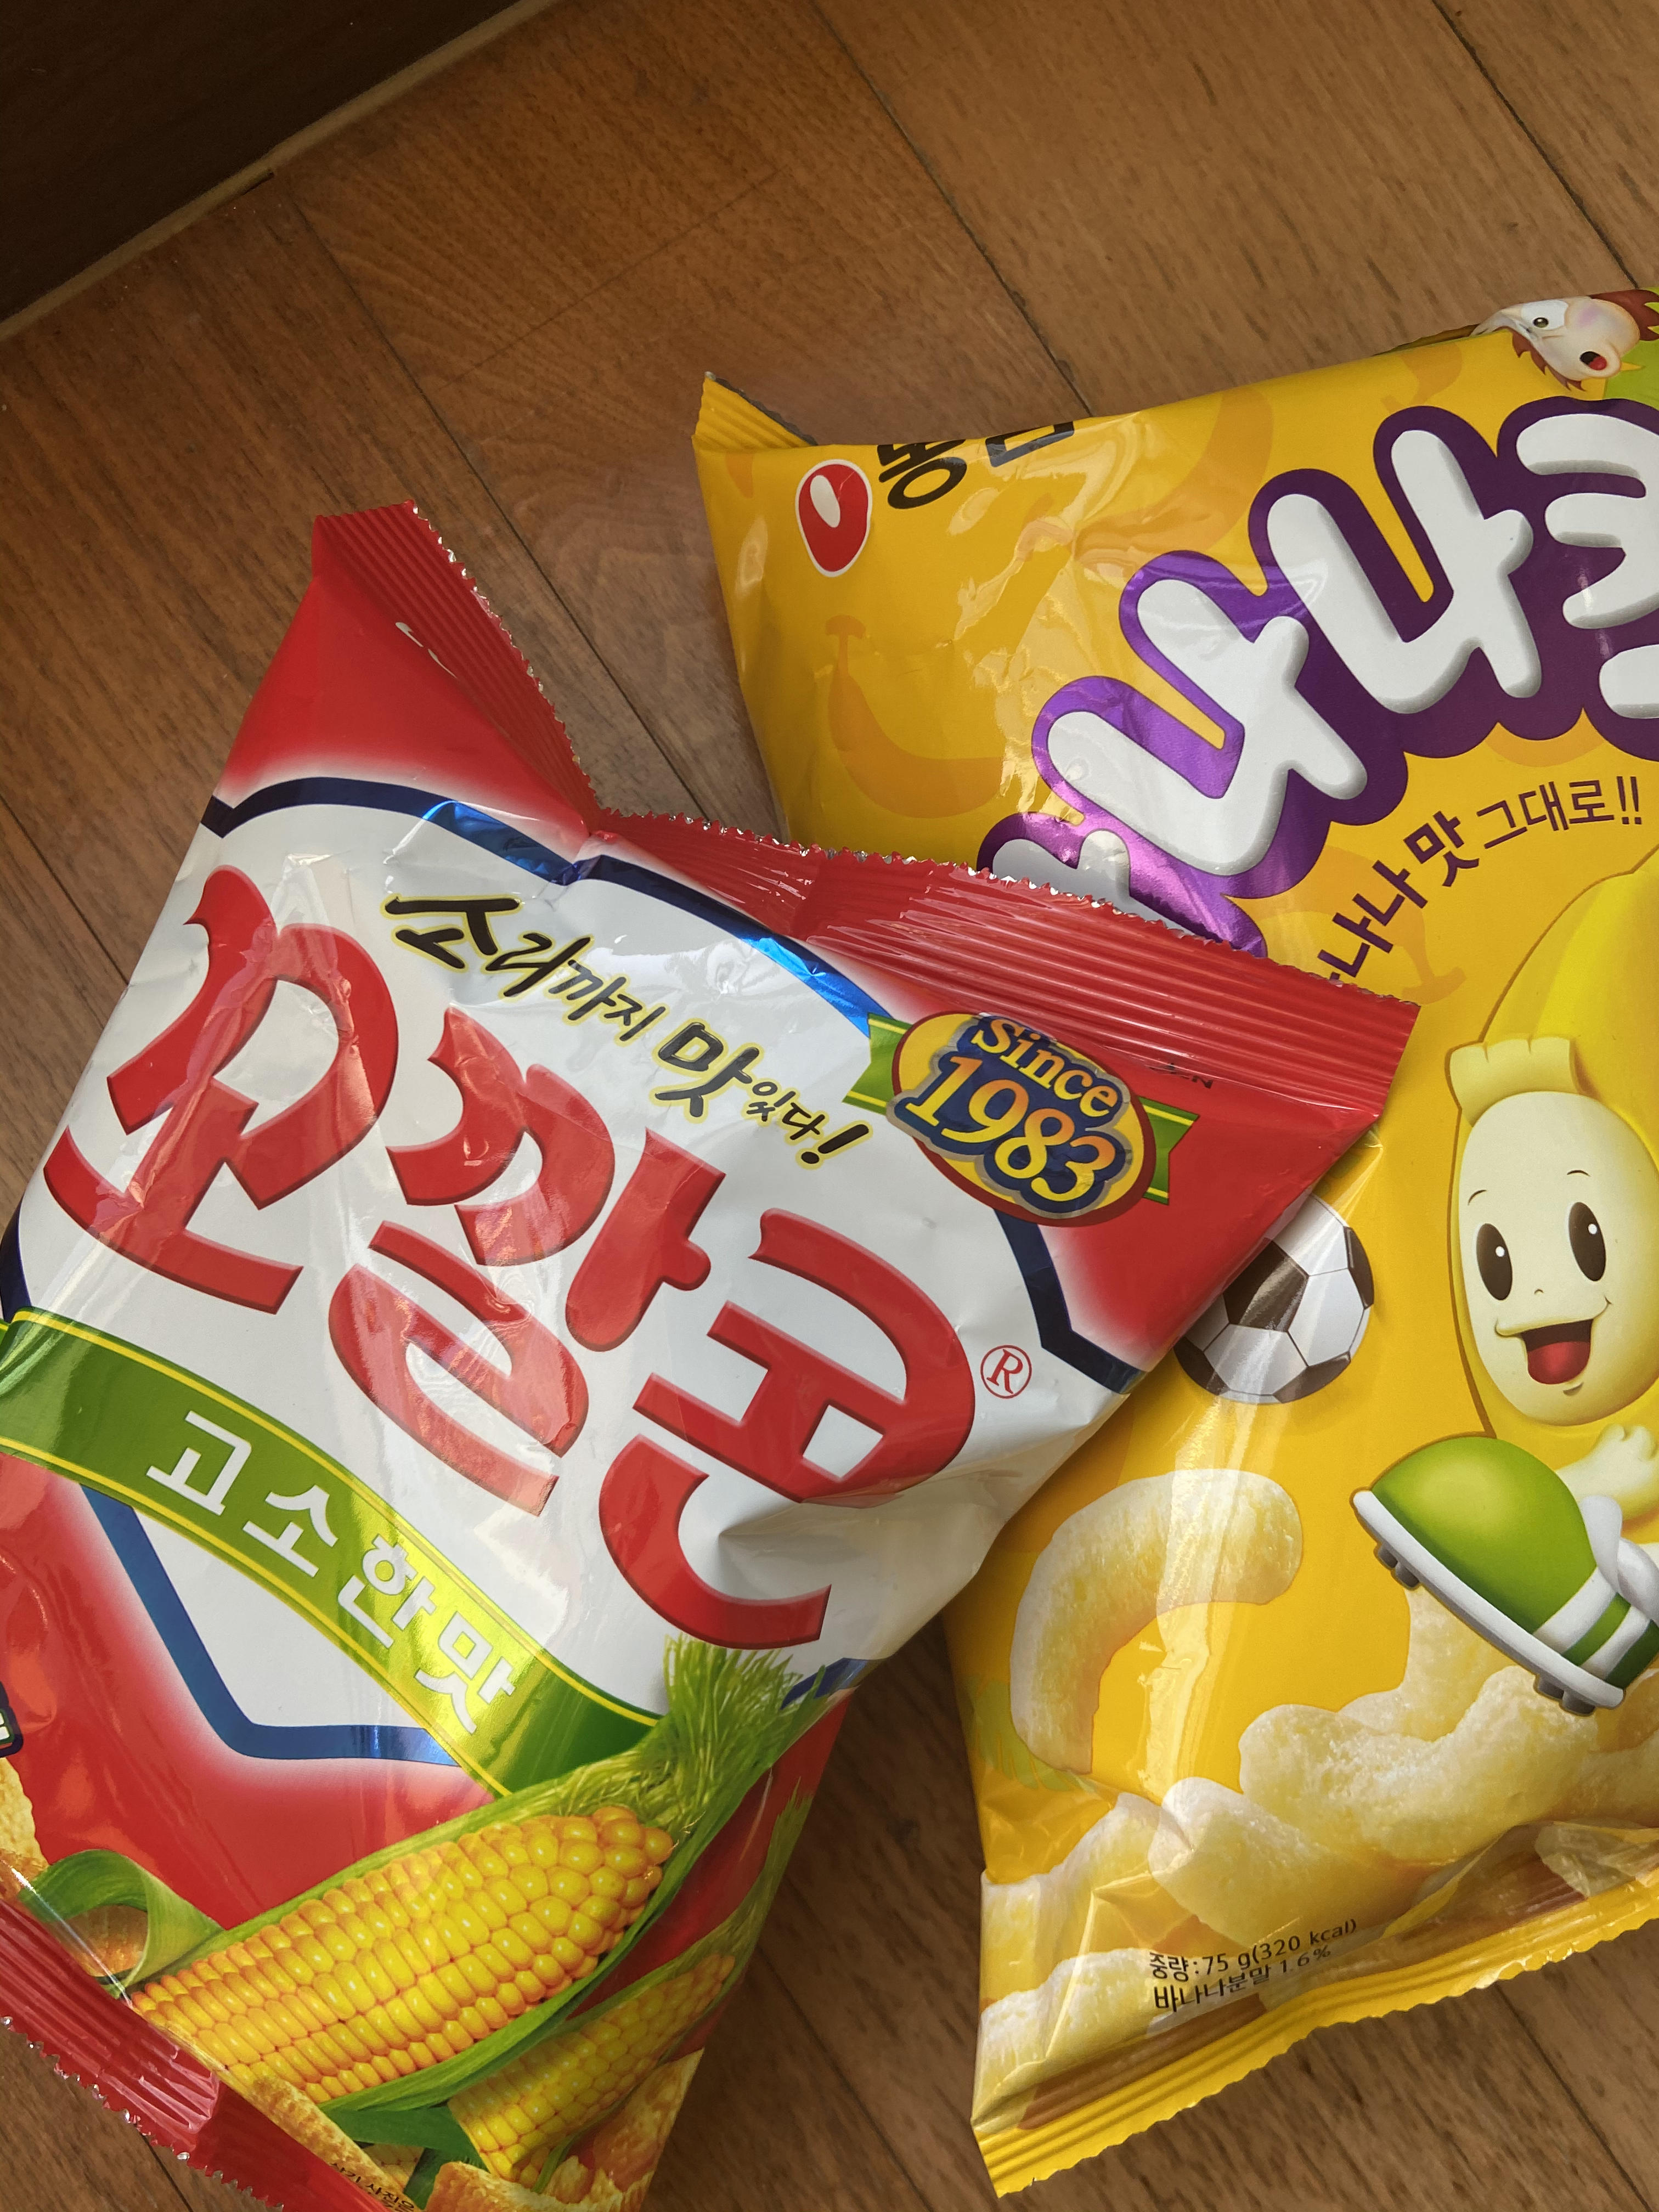banana: (660, 282, 1659, 2212)
ggoggalcon: (0, 493, 1422, 2205)
